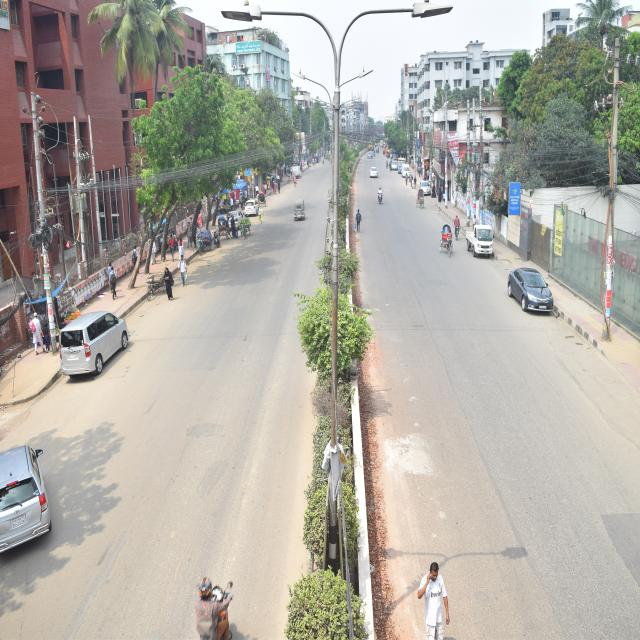car: (0, 426, 77, 568), (41, 285, 161, 372), (489, 240, 576, 355), (220, 198, 253, 248), (243, 179, 275, 227), (416, 170, 435, 200), (367, 158, 380, 183), (402, 160, 414, 182), (366, 146, 376, 161), (389, 154, 397, 170)
motorbike: (155, 536, 258, 640), (372, 176, 393, 224), (206, 221, 227, 260)
pickup-van: (456, 205, 508, 275), (399, 155, 412, 177), (290, 159, 300, 184)
